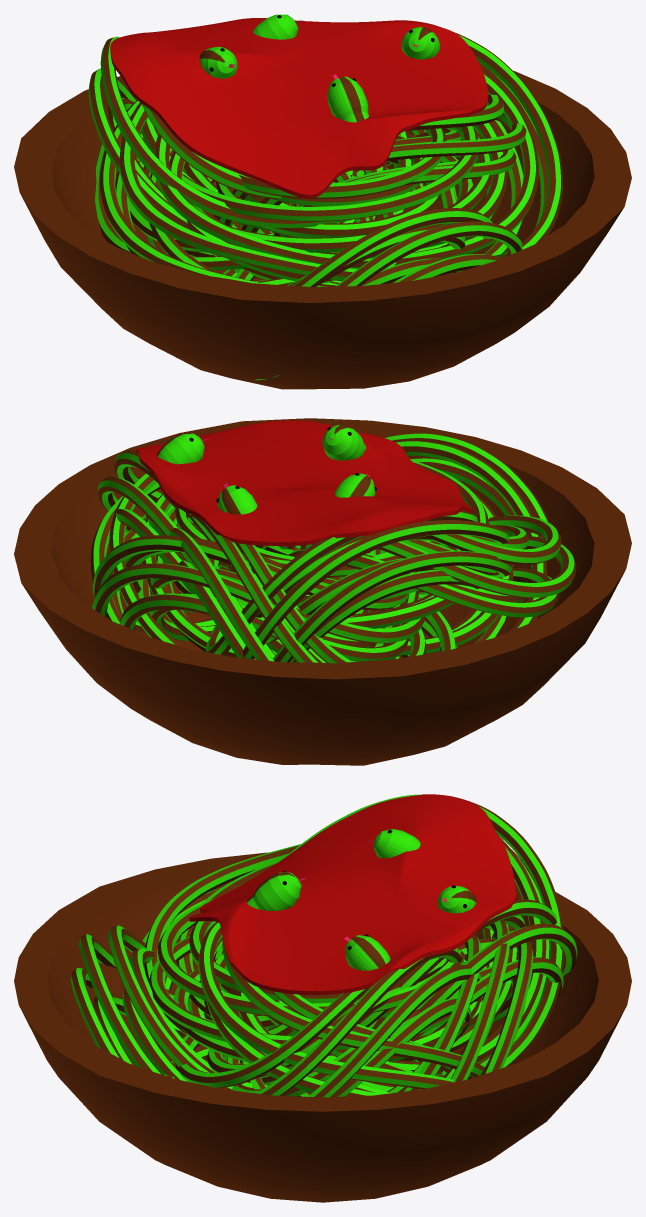
File: snaghetti.fbx
3 renders of one model, top to bottom at view 1: azimuth 30°, elevation 25°; view 2: azimuth 150°, elevation 25°; view 3: azimuth 270°, elevation 25°, orthographic.
Visible parts, largest first — view 1: boul; view 2: boul; view 3: boul.
Part boxes in pixels (x1,y1,x2,y2): boul: (14,14,631,389); boul: (14,418,631,765); boul: (14,794,631,1202).
Size of the model in its own units: 28.74 by 14.95 by 28.74.
